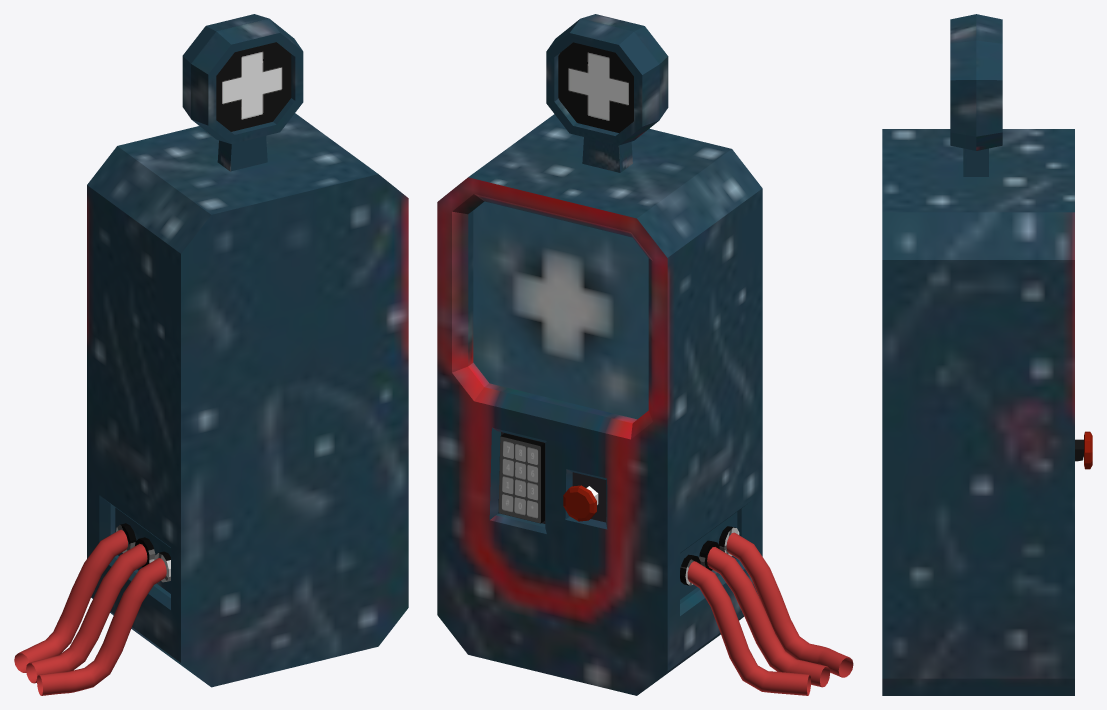
Rendered from MachineHeal.obj.
3 renders of one model, left to right at view 1: azimuth 30°, elevation 25°; view 2: azimuth 150°, elevation 25°; view 3: azimuth 270°, elevation 25°, orthographic. The views are drawn at different scales.
Parts seen in each view (by area): view 1: Machine_Cube.002; view 2: Machine_Cube.002; view 3: Machine_Cube.002.
Part boxes in pixels (box(x1,y1,x2,y2)): Machine_Cube.002: box(14, 14, 408, 695); Machine_Cube.002: box(437, 14, 853, 695); Machine_Cube.002: box(882, 14, 1092, 695).
Size of the model in its own units: 7.73 by 13.19 by 4.03.
7 materials, 7 textured.
